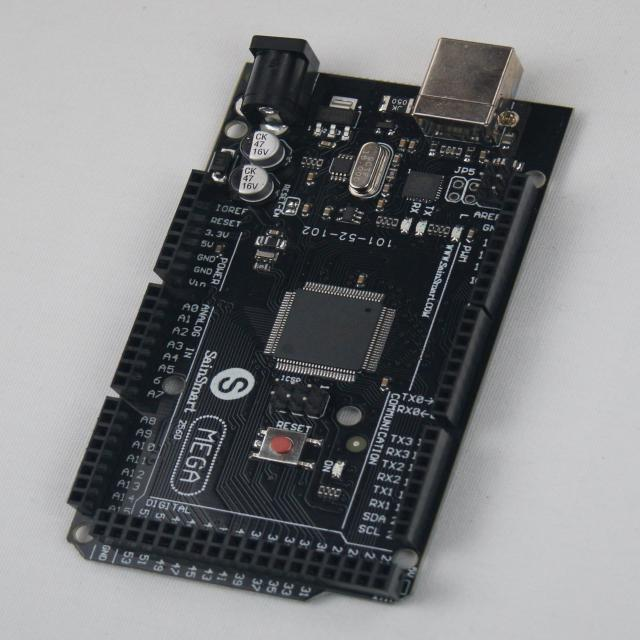Arduino Mega 2560 -Black-: (69, 37, 570, 603)
